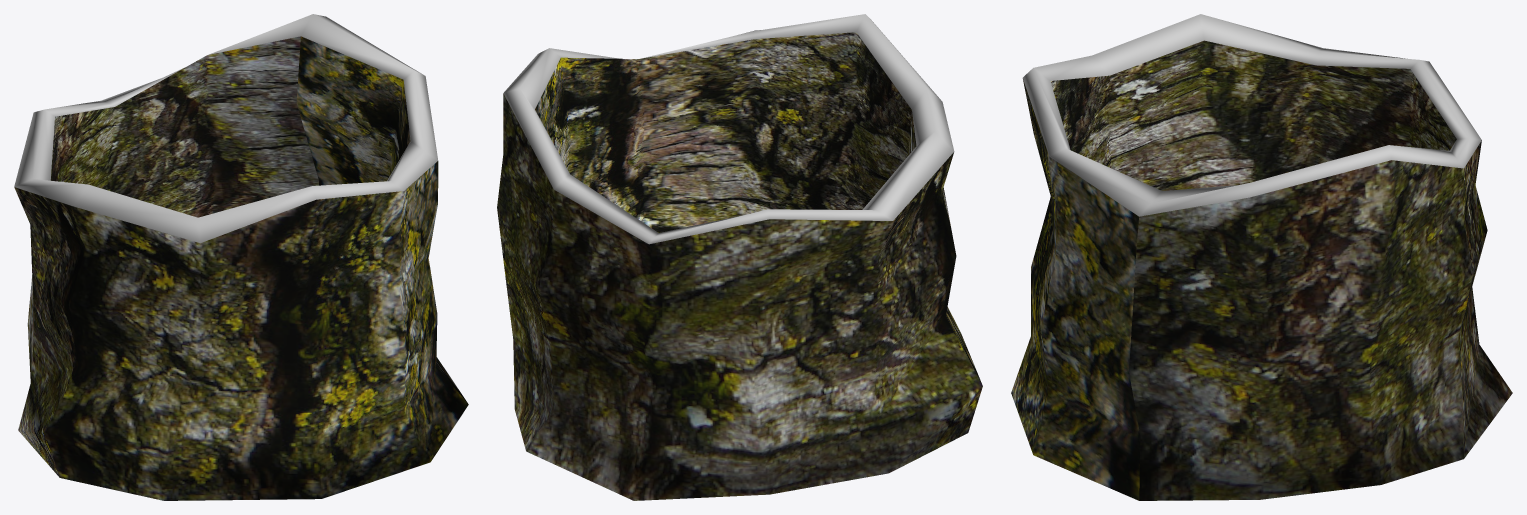
File: oek_env_treeStump_low.fbx
3 renders of one model, left to right at view 1: azimuth 30°, elevation 25°; view 2: azimuth 150°, elevation 25°; view 3: azimuth 270°, elevation 25°, orthographic. The views are drawn at different scales.
Parts seen in each view (by area): view 1: stump_high; view 2: stump_high; view 3: stump_high.
Part boxes in pixels (box(x1,y1,x2,y2)): stump_high: box(14, 14, 468, 500); stump_high: box(497, 14, 982, 500); stump_high: box(1011, 14, 1512, 500).
Size of the model in its own units: 8.81 by 6.53 by 8.84.
